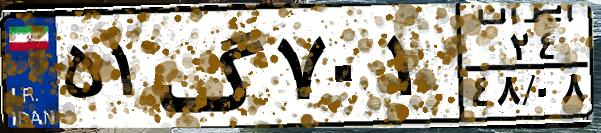0: (330, 28, 385, 110), (535, 70, 560, 125)
1: (385, 28, 445, 110), (110, 28, 156, 98)
2: (508, 27, 537, 80)
4: (537, 27, 568, 80), (470, 70, 495, 125)
5: (57, 26, 110, 100)
7: (270, 28, 330, 110)
8: (560, 70, 590, 125), (495, 70, 520, 125)
گ: (156, 12, 270, 120)
